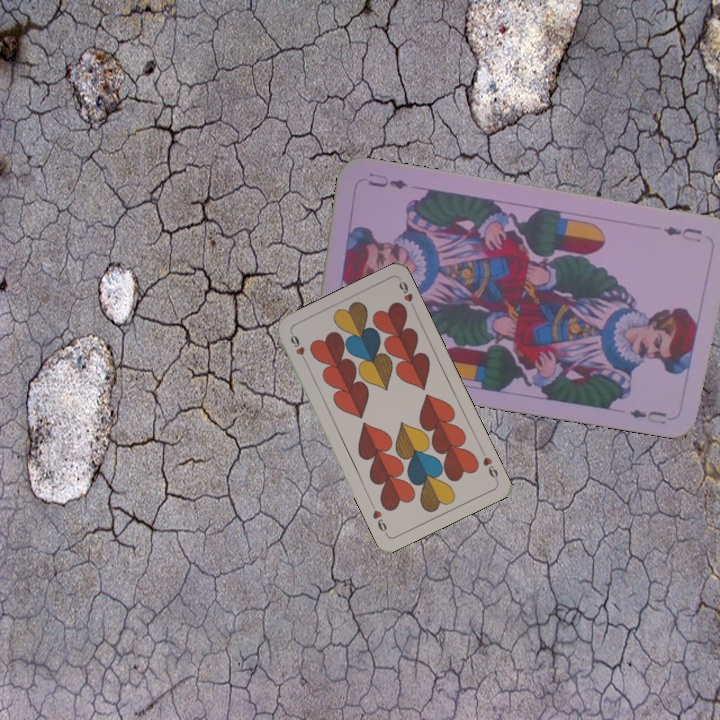EU: (659, 222, 705, 245)
H9: (477, 446, 501, 484), (286, 329, 310, 367)
